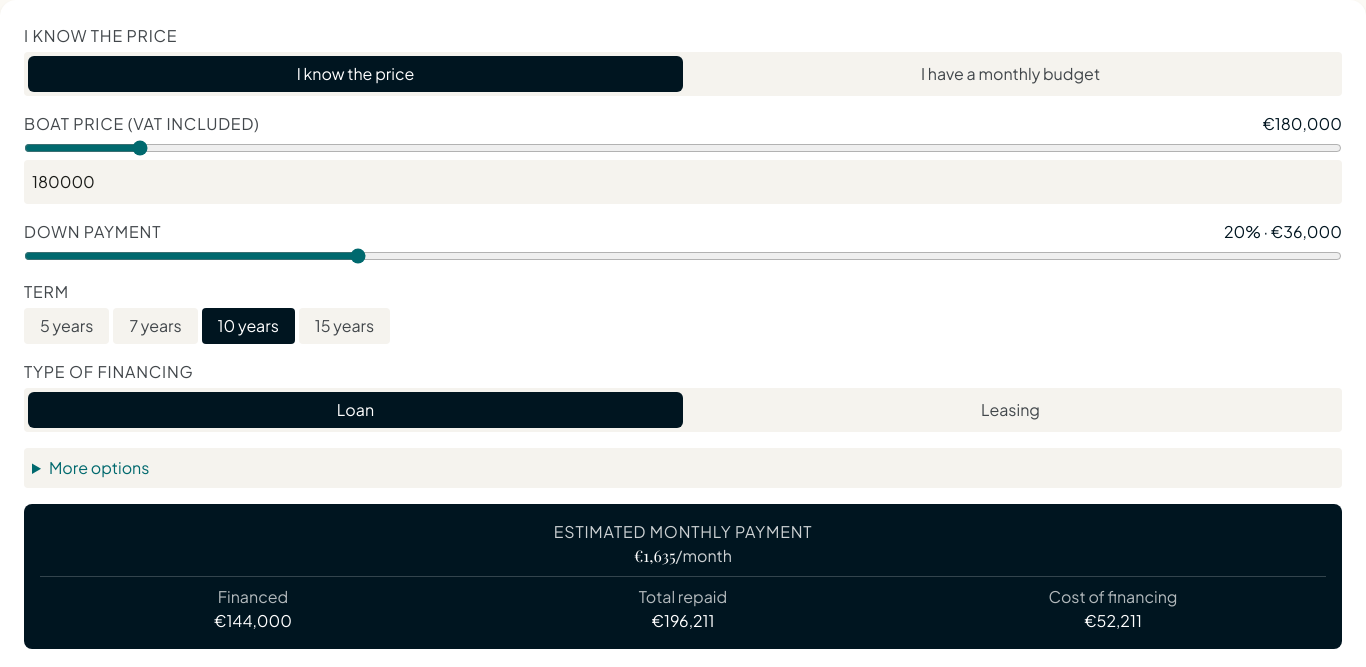
Test: FinanceSimulator › limits the term for an old used boat and says why
Expected: the text "Estimated monthly payment" is shown, [554,521,812,542]
Click the heading "More options" at point(99, 468), box [49,457,149,478]
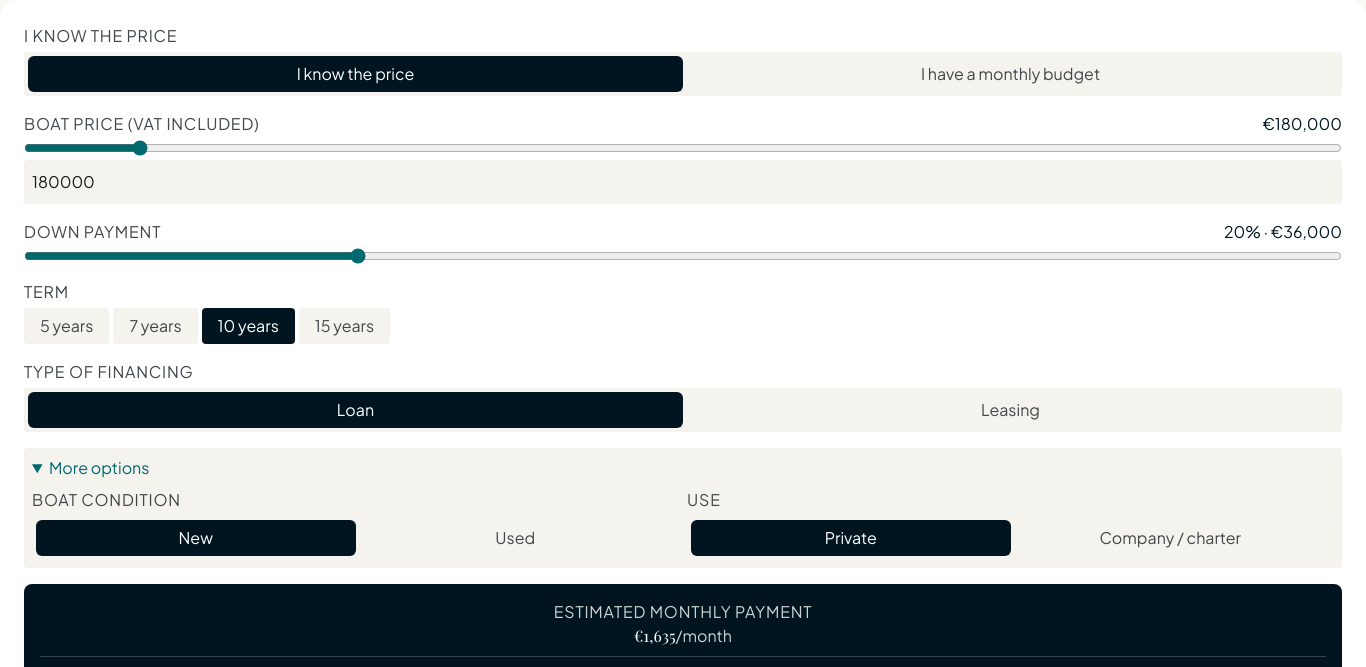
Click the button "Used" at point(515, 538), box [356,520,675,556]
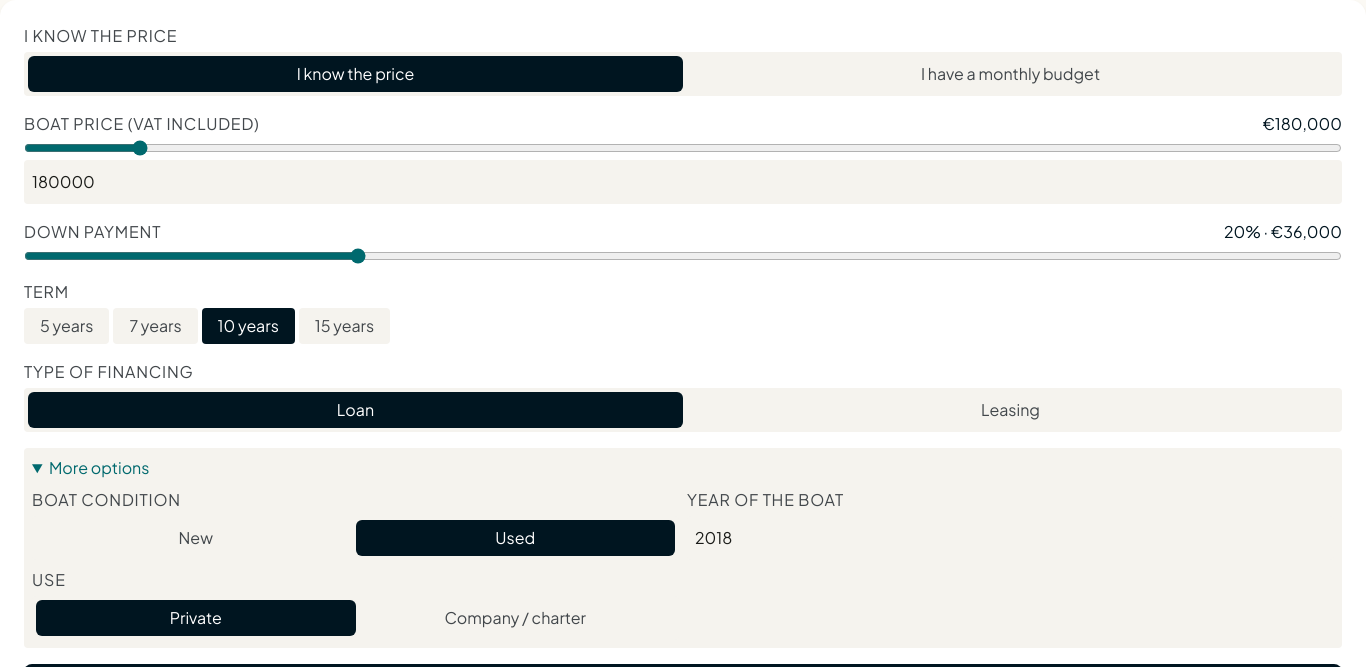
Replace the text in the number field labelled "Year of the boat" with "2000" at point(1010, 538), box [687,516,1334,560]
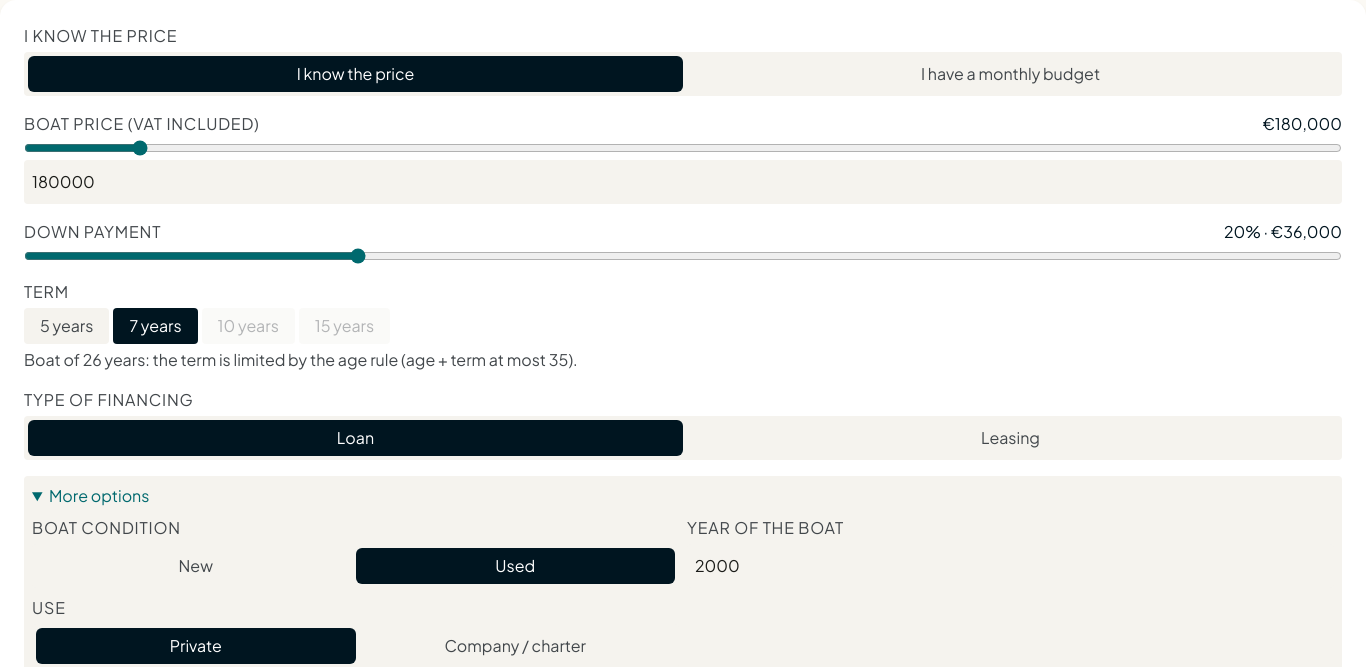
Expected: the button "7 years" is enabled, [113,308,198,344]
Expected: the button "15 years" is disabled, [299,308,390,344]
Expected: the text "age rule" is shown, [24,349,578,370]
